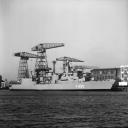Fragata: (10, 54, 118, 93)
